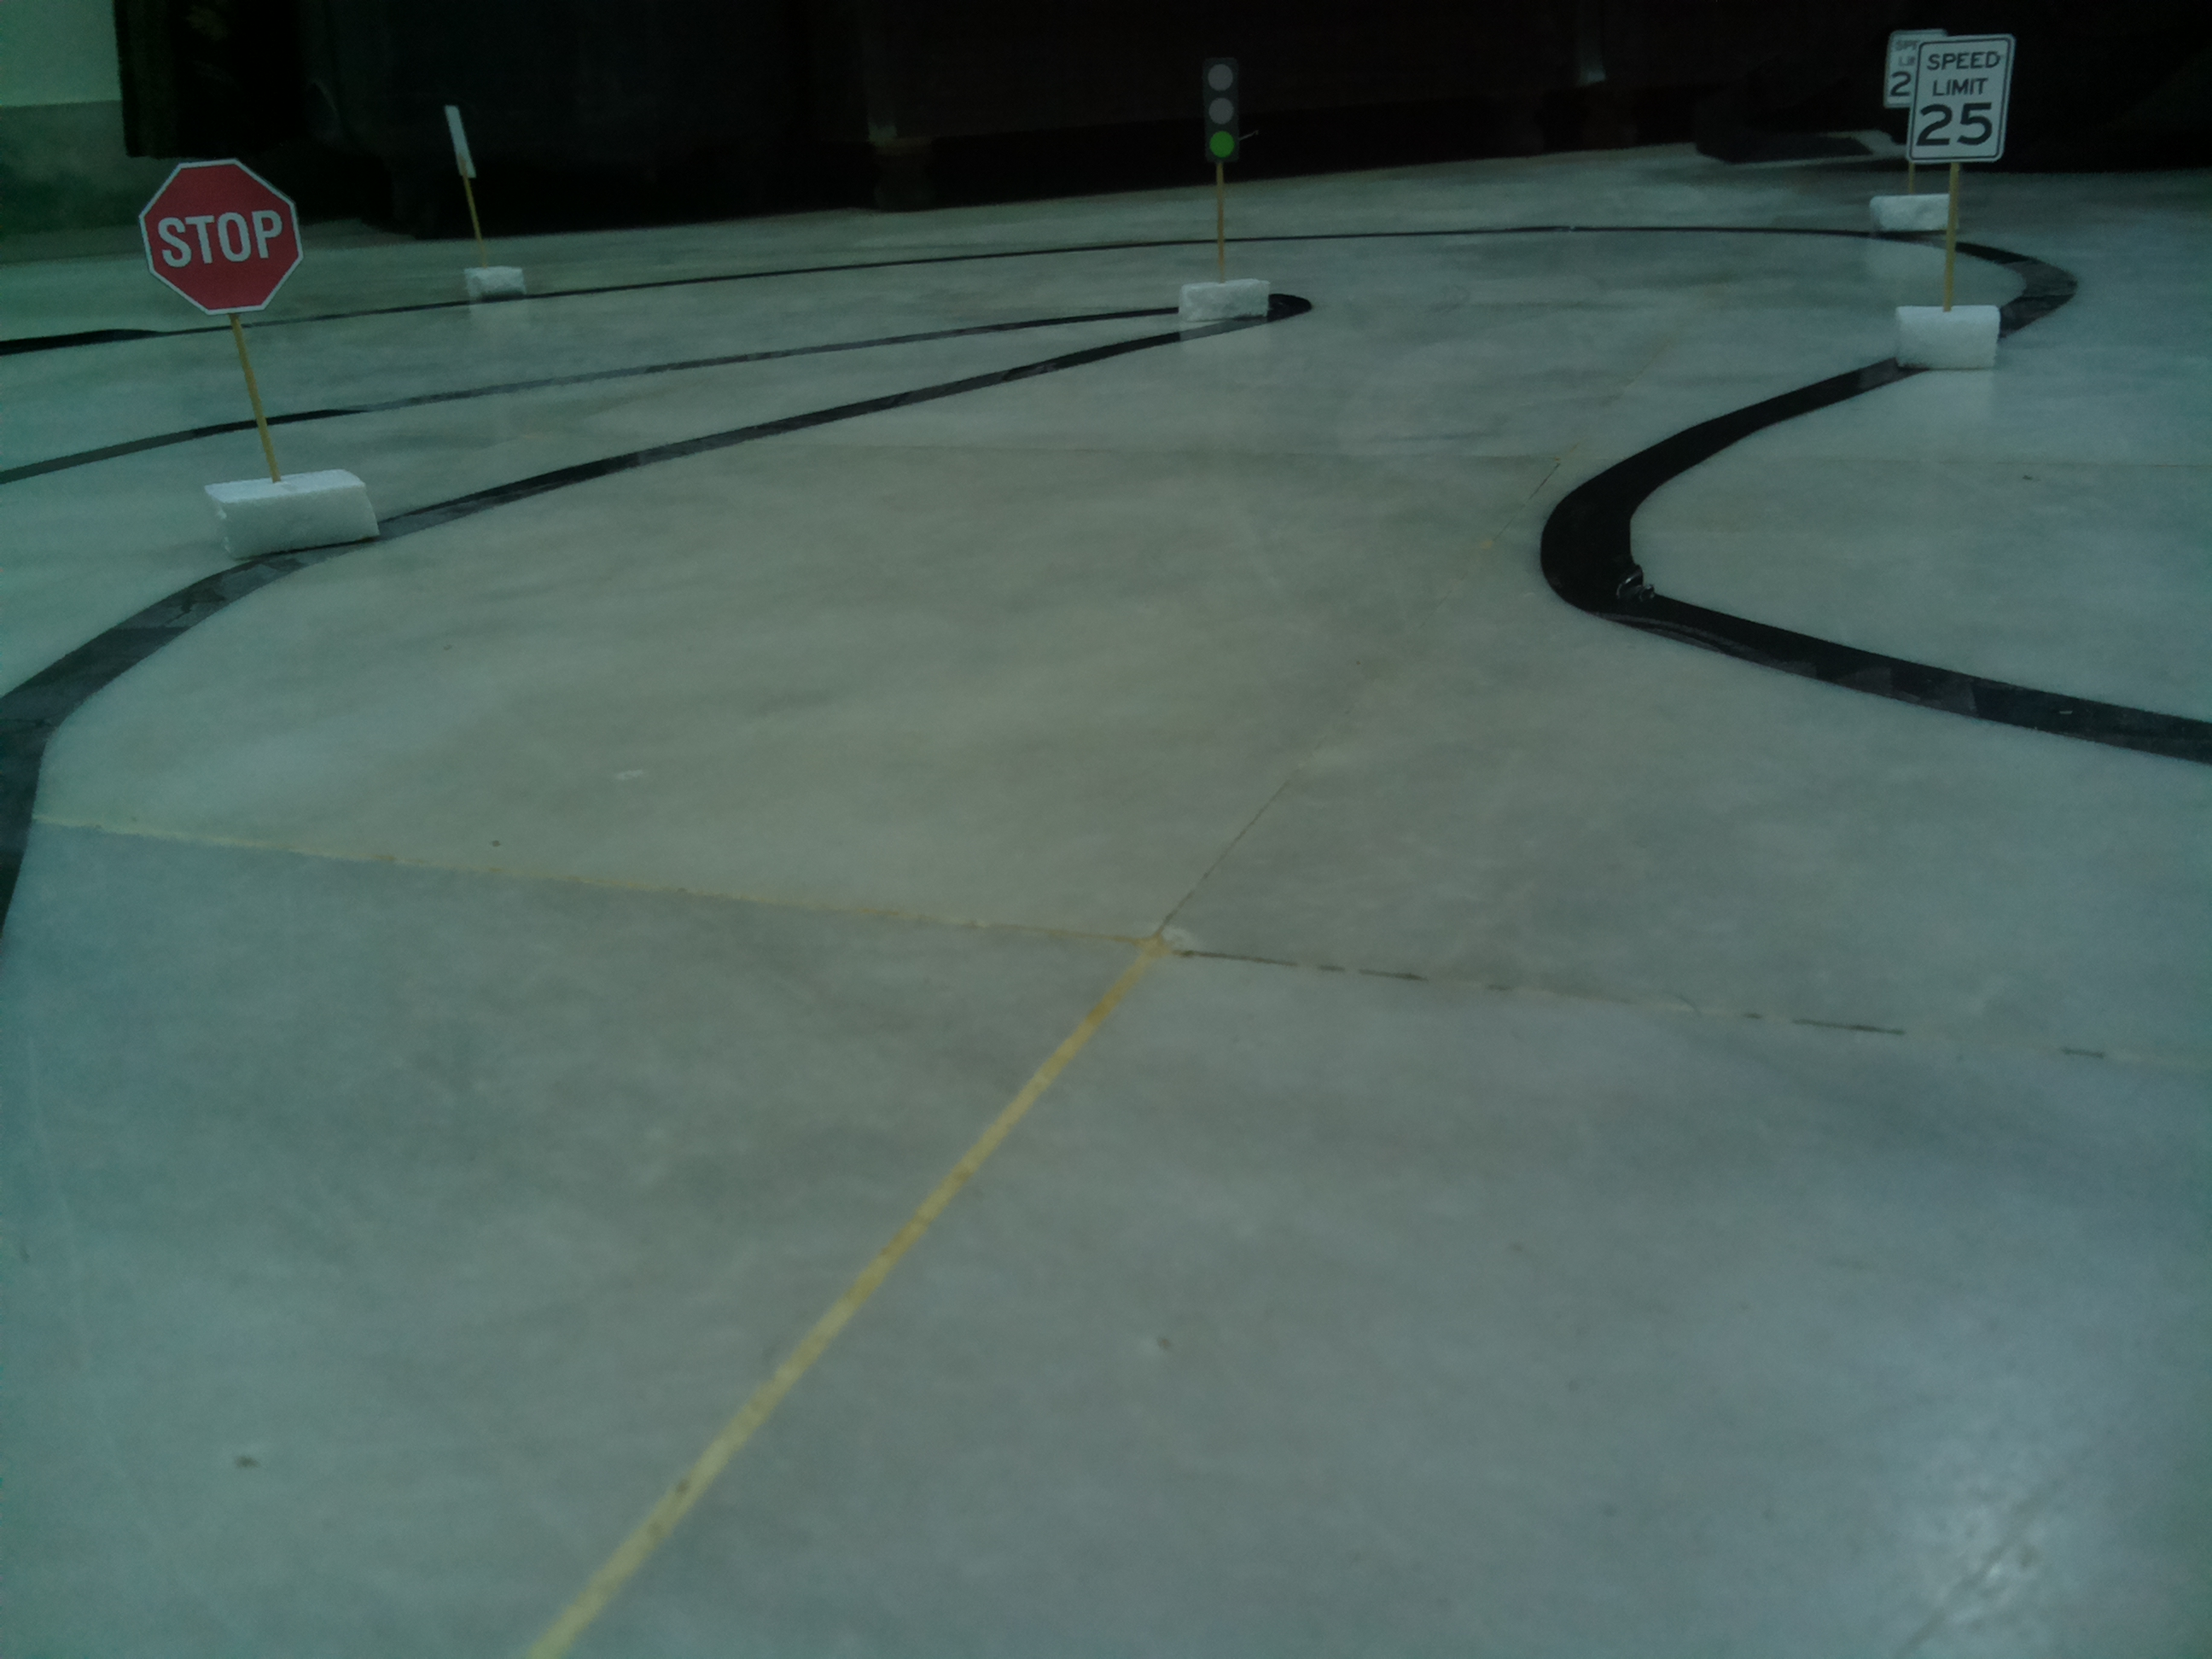Green traffic light: (1198, 51, 1244, 169)
Speed limit 25: (1912, 31, 2006, 166)
Stop sign: (132, 155, 310, 315)
